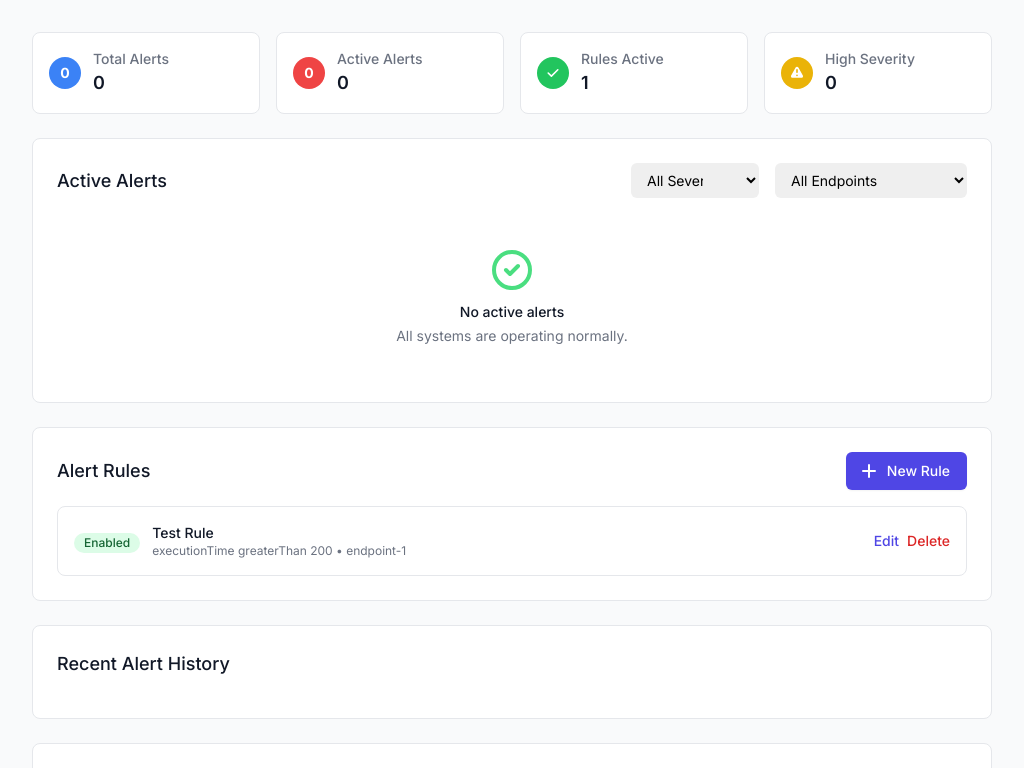
Test: AlertDashboard › Alert Rules Management › should allow deleting alert rules
The width and height of the screenshot is (1024, 768).
Click the button with test id "delete-rule-button".
click(929, 541)  # box [907,531,950,551]
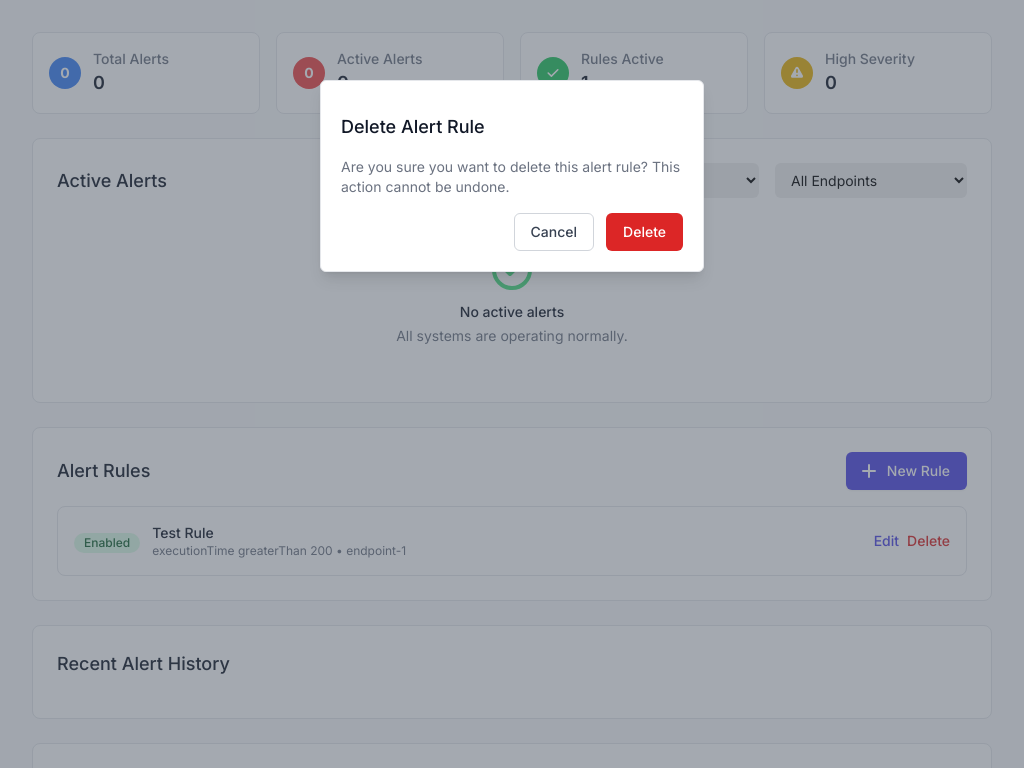
Expected: the element with test id "delete-confirmation" is shown
